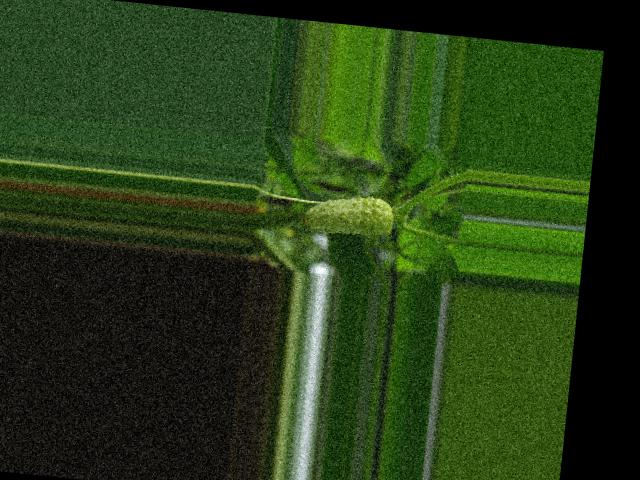cucumber: (299, 189, 395, 238)
